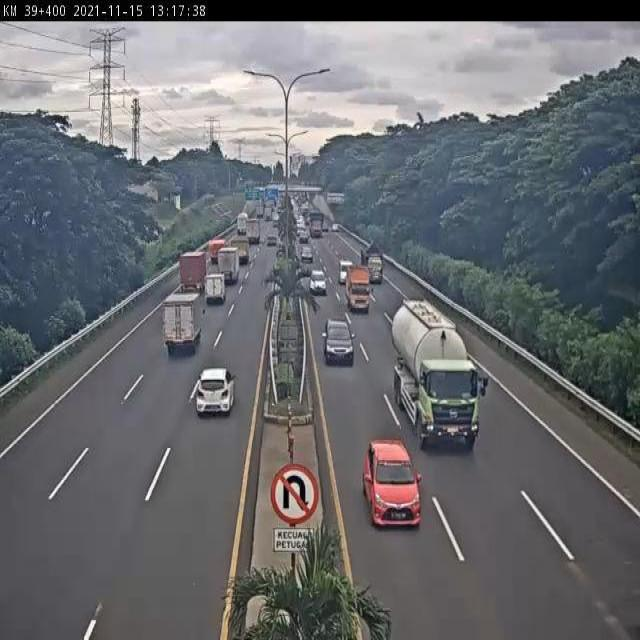ARABA: (365, 436, 424, 532), (194, 364, 237, 416), (323, 317, 355, 364), (310, 266, 329, 294)
KAMYONET: (166, 289, 207, 352), (343, 262, 373, 314), (178, 248, 209, 292), (360, 238, 386, 286), (218, 247, 242, 281), (206, 270, 228, 306)
TIR: (393, 301, 486, 451)
